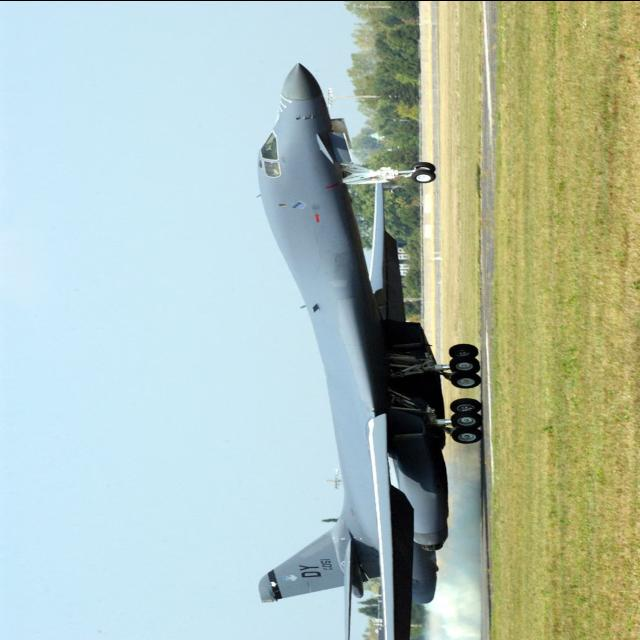B1: (113, 54, 535, 634)
